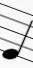E: (2, 1, 33, 63)
